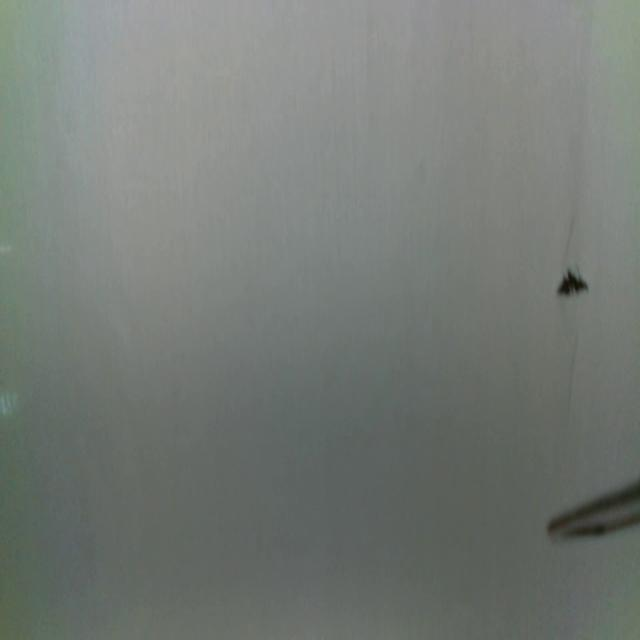hole: (557, 266, 589, 303)
